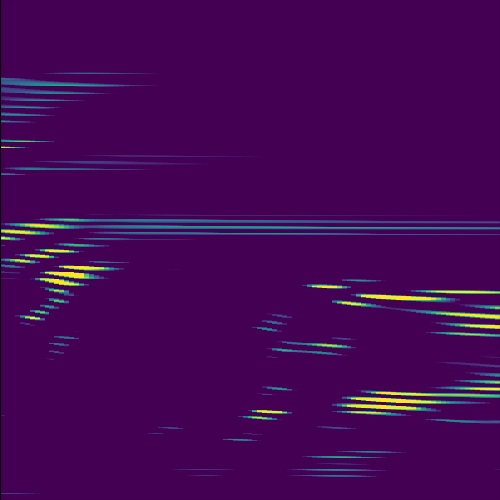semblance: (329, 388, 443, 419), (32, 258, 125, 294), (1, 215, 84, 243), (1, 247, 81, 268)
